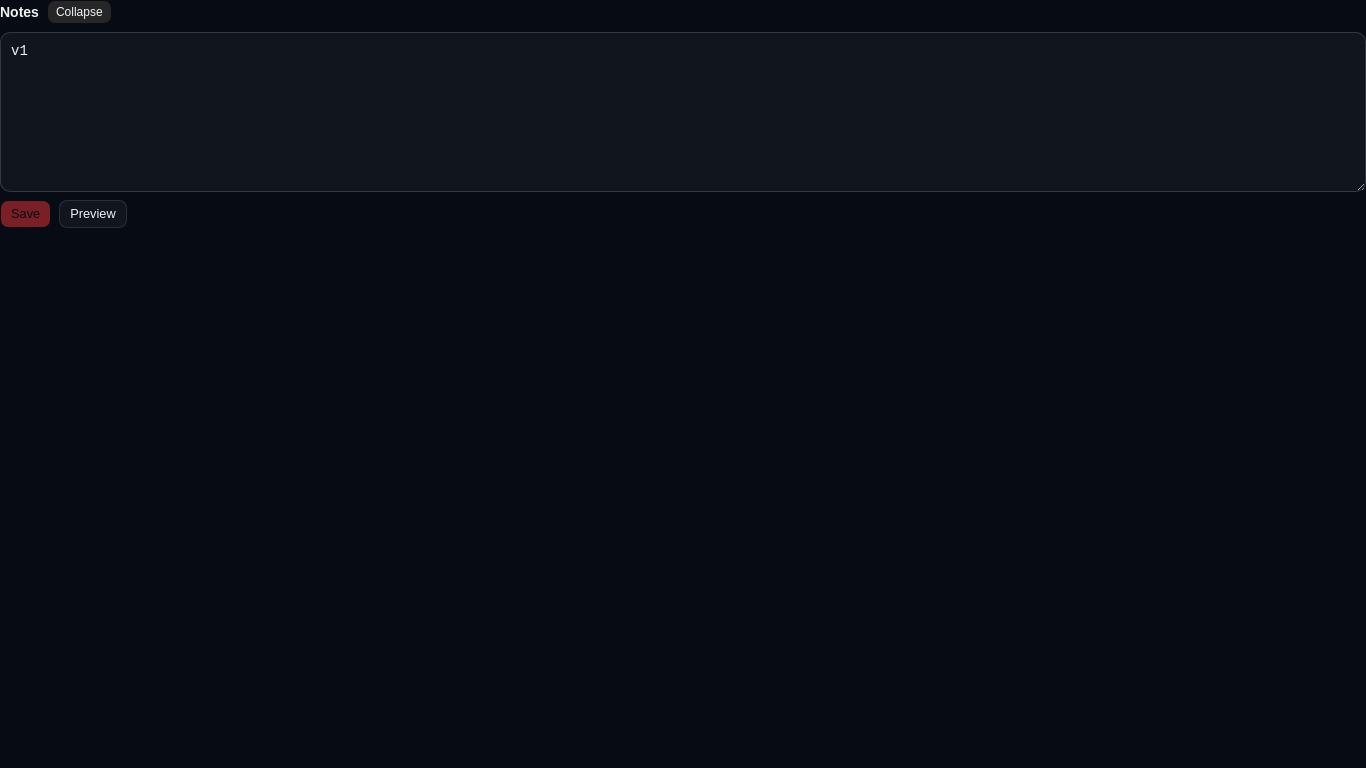
NotesEditor › shows a failed Reload inside the conflict dialog
Replace the text in the text box named "Notes text" with "mine" at (683, 112), box [0,32,1365,192]
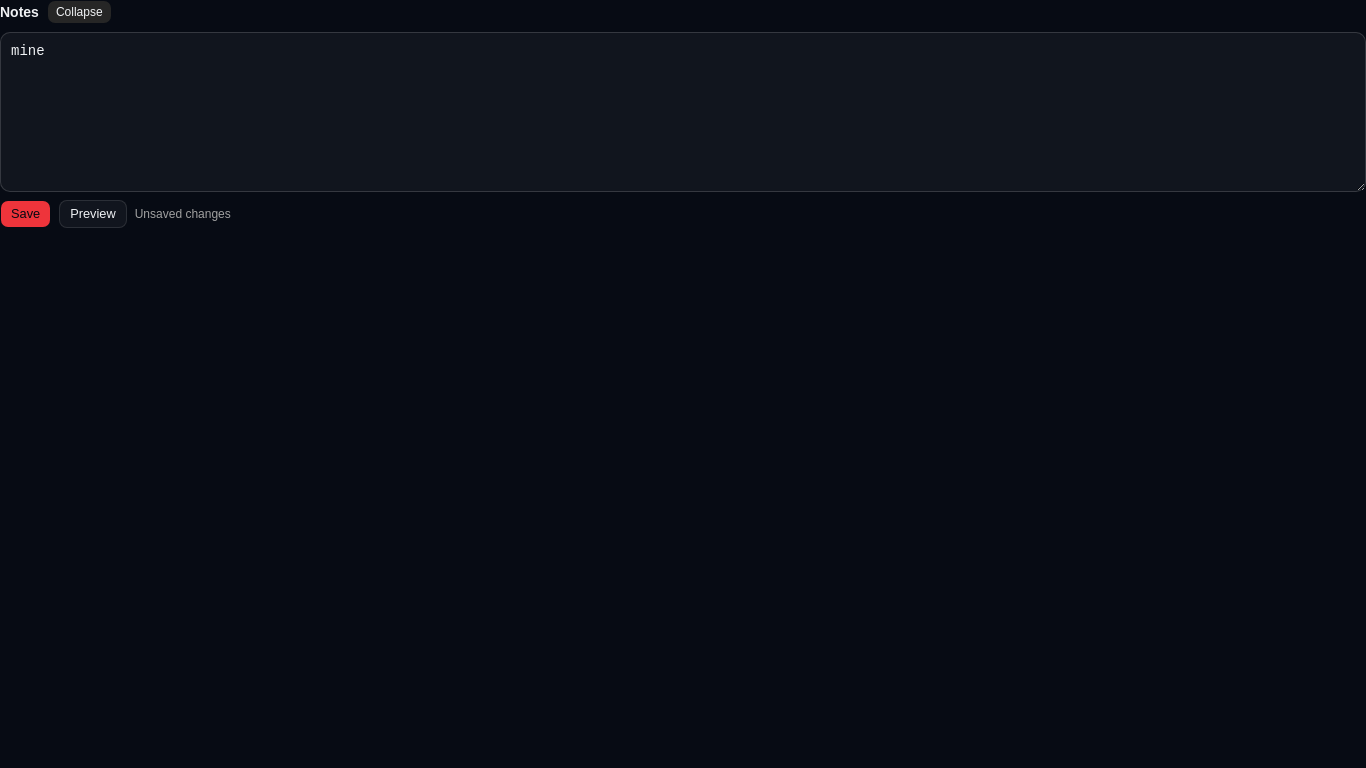
Click the button "Save".
click(26, 214)  # box [0,200,51,228]
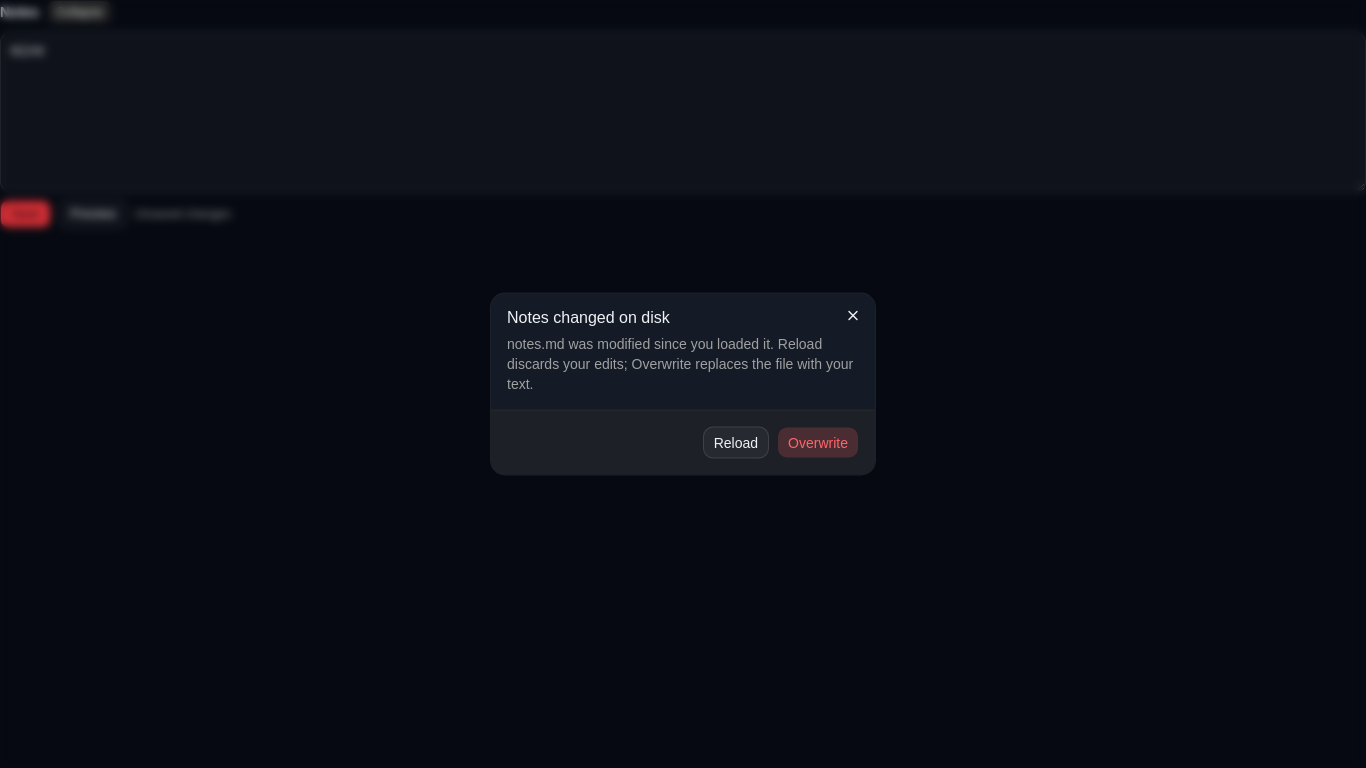
Click the button "Reload".
click(736, 442)  # box [703,426,769,458]
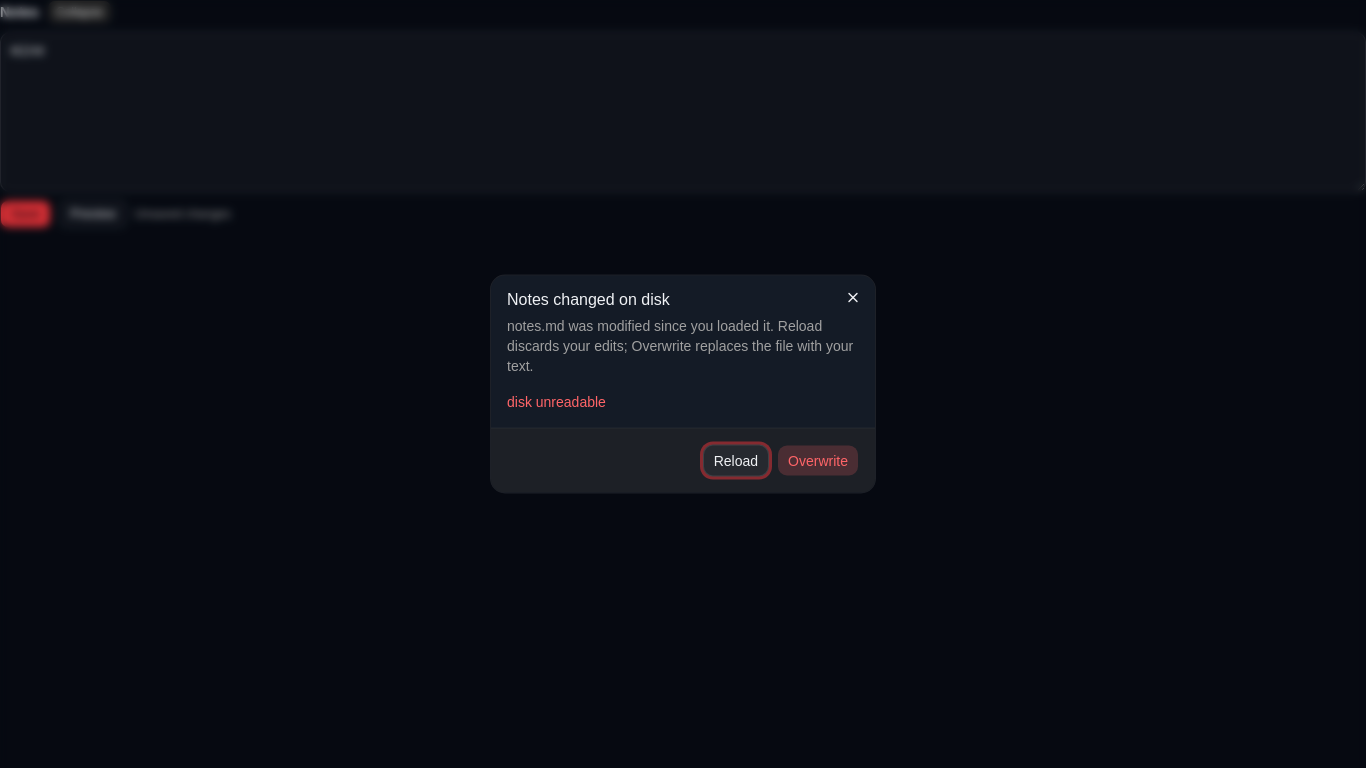
Check: the dialog shows "disk unreadable", box [507,394,606,410]
